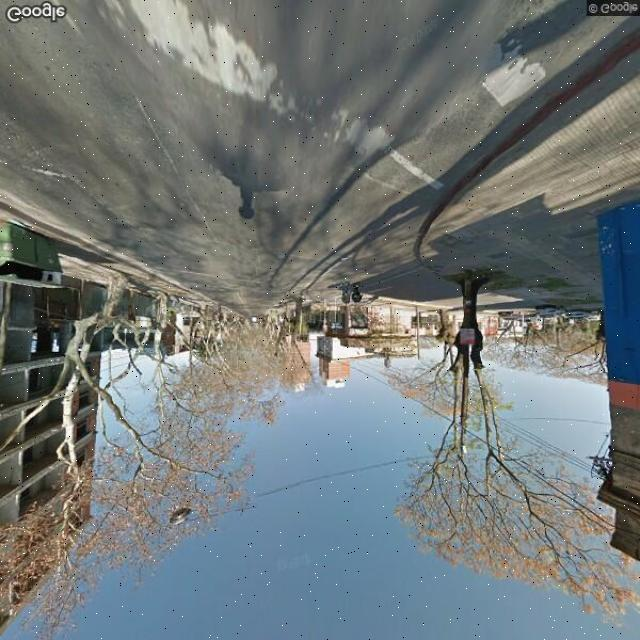garbage container: (2, 219, 75, 301)
